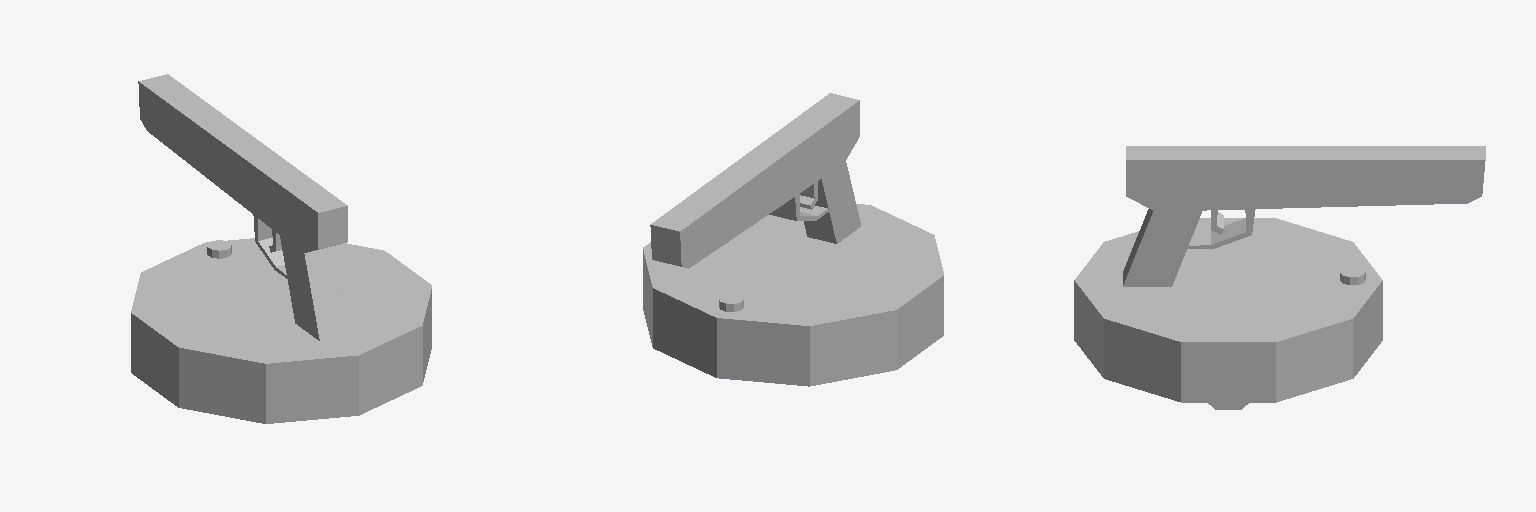
File: doomba.obj
The picture shows the model from 3 angles: view 1: azimuth 30°, elevation 25°; view 2: azimuth 150°, elevation 25°; view 3: azimuth 270°, elevation 25°; orthographic projection.
Visible parts, largest first — view 1: Solid1; view 2: Solid1; view 3: Solid1.
Part boxes in pixels (left/top/right/bottom): Solid1: left=131, top=74, right=431, bottom=423; Solid1: left=643, top=93, right=943, bottom=386; Solid1: left=1074, top=146, right=1485, bottom=409.
Size of the model in its own units: 0.3424 by 0.2655 by 0.4799.